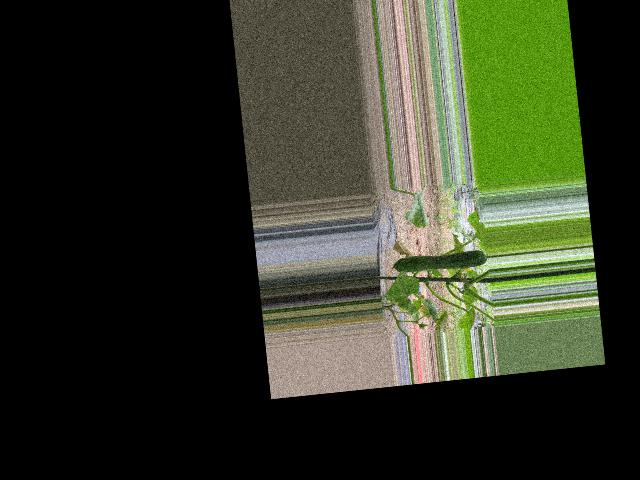cucumber: (389, 248, 487, 275)
